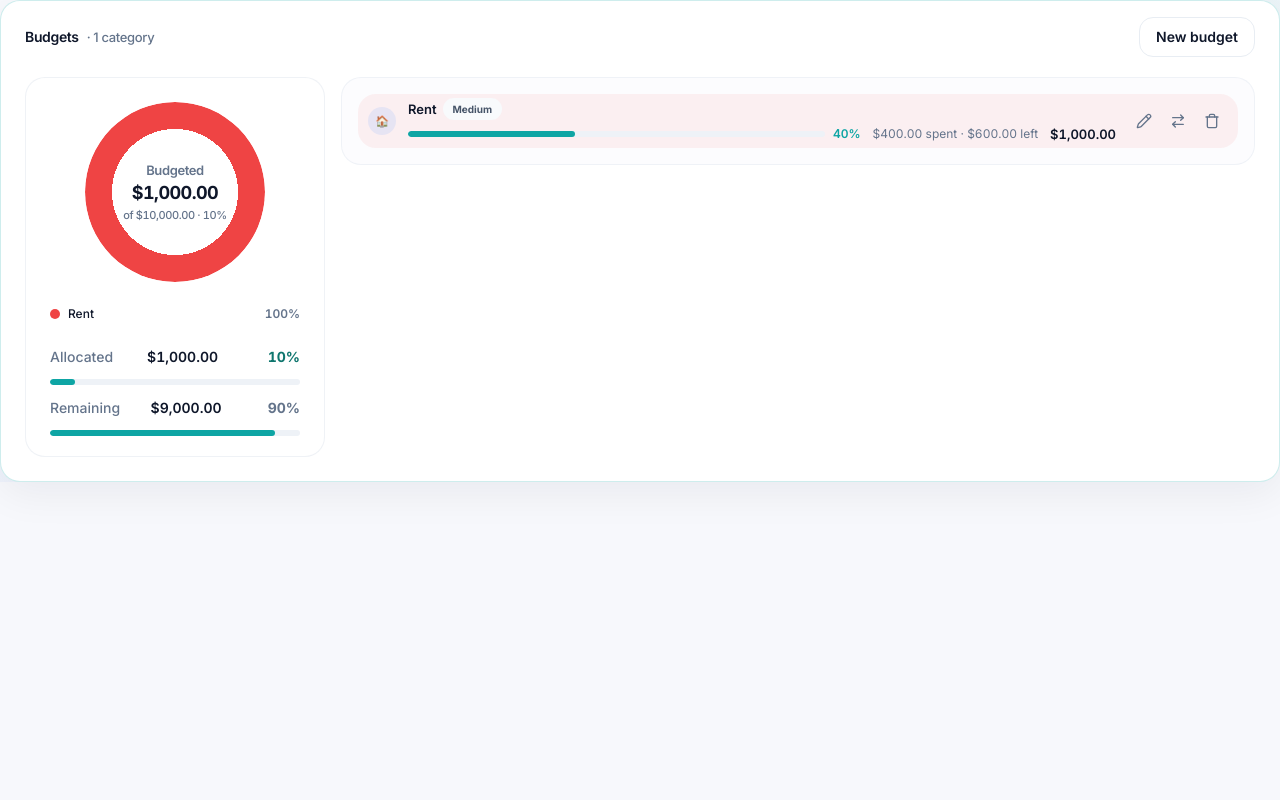
Row actions › opens the limit/priority edit form from the pencil, for an on-track category
Click the button named "Edit Rent budget" at (1144, 121), box [1128,105,1160,137]
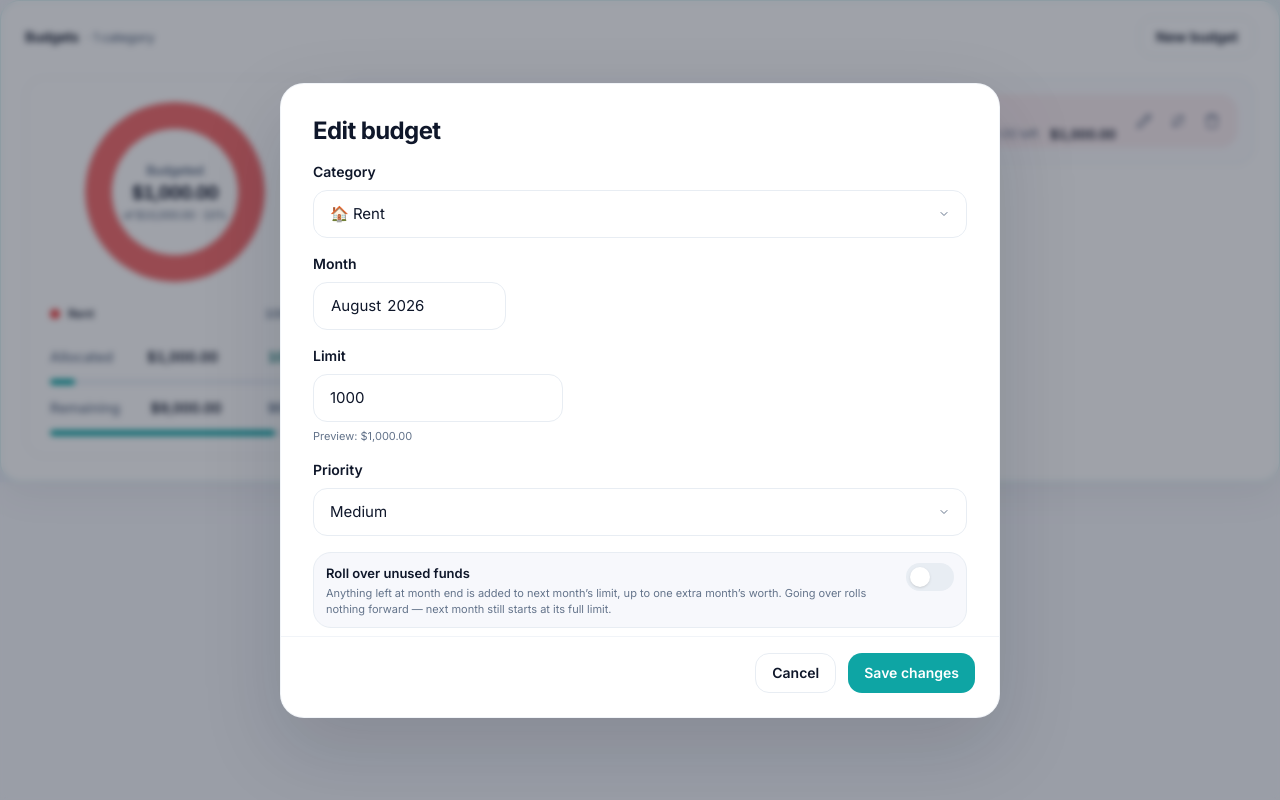
Result: the heading "Edit budget" is shown at [313,116,440,144]
Result: the dropdown labelled "Priority" shows "Medium" at [313,488,967,536]
